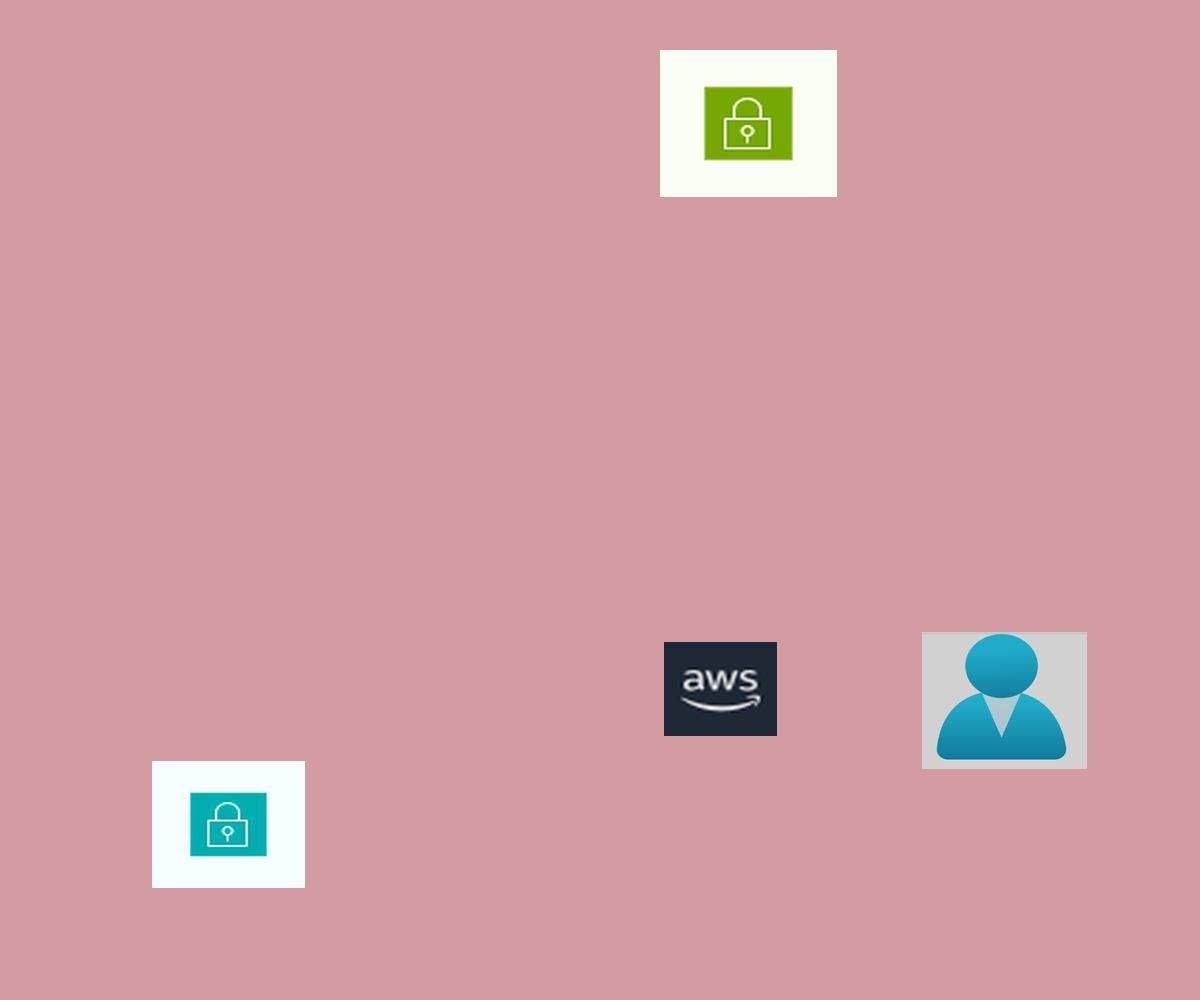AWS-Cloud-logo: (664, 642, 777, 736)
AWS-Private-subnet: (152, 761, 305, 888)
AWS-Public-subnet: (660, 50, 837, 197)
Azure_users: (922, 632, 1087, 769)
